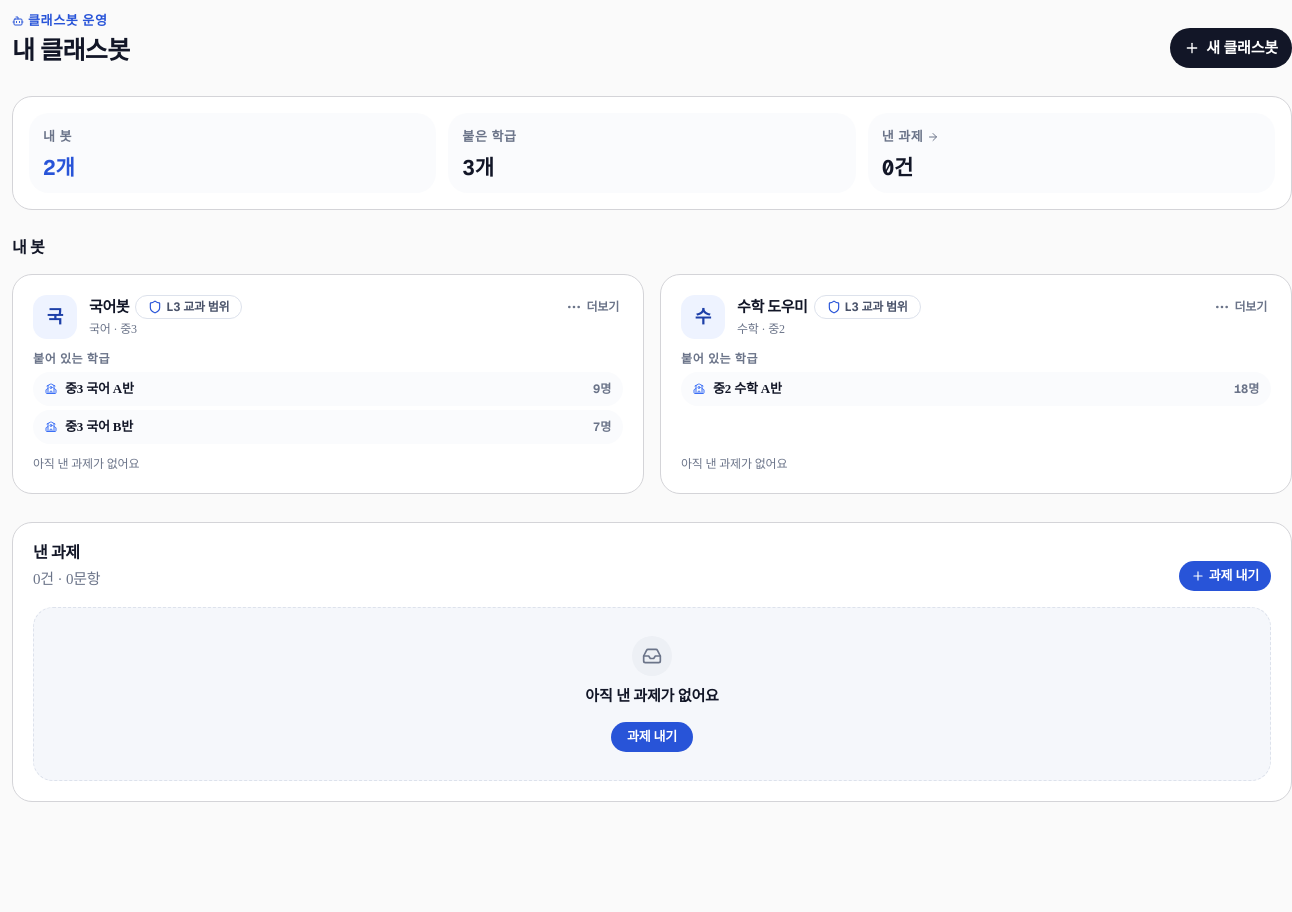
it: 카드의 나가는 길은 여전히 「더보기」 하나뿐이고, 그 안에 「봇 보관」이 있다
The width and height of the screenshot is (1292, 912).
Click the button "더보기" in the row of "국어봇".
click(593, 307)  # box x1=558 y1=291 x2=627 y2=323
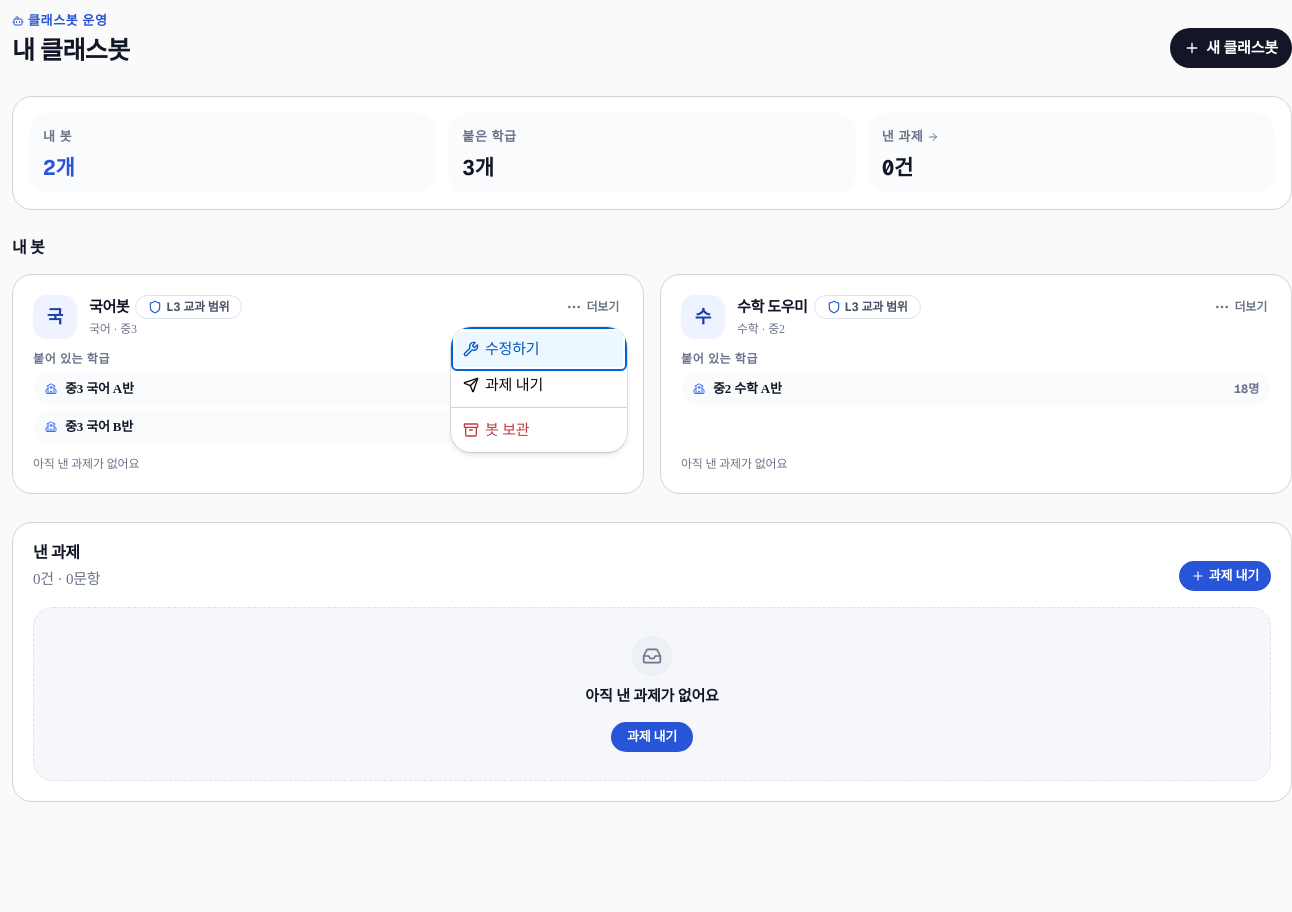
expect the menu item "봇 보관" is shown: met, box x1=463 y1=422 x2=530 y2=438
expect the menu item "수정하기" is shown: met, box x1=455 y1=331 x2=623 y2=367
expect the menu item "과제 내기" is shown: met, box x1=463 y1=377 x2=543 y2=393
